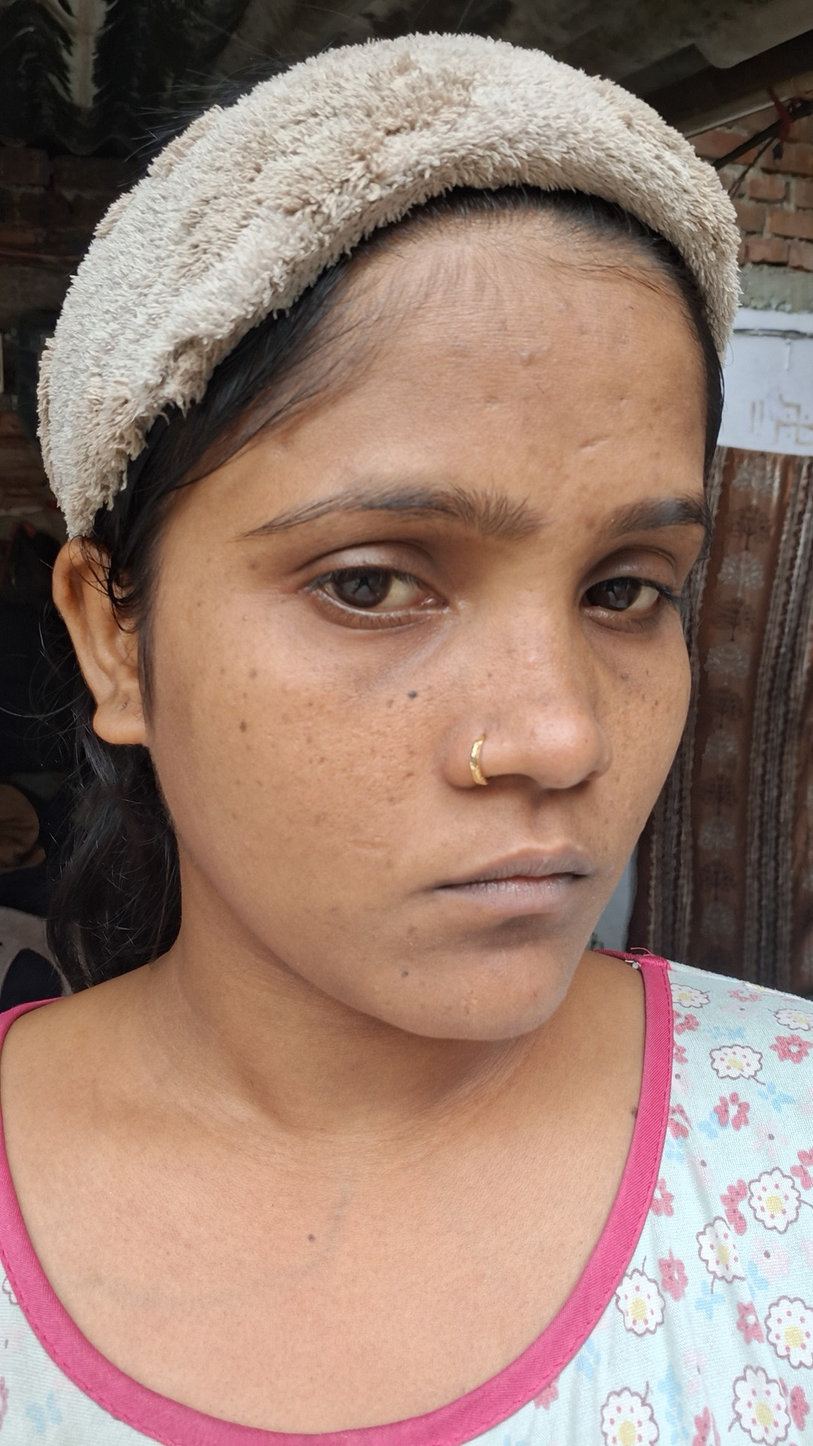macrocomedone: (517, 344, 543, 368)
